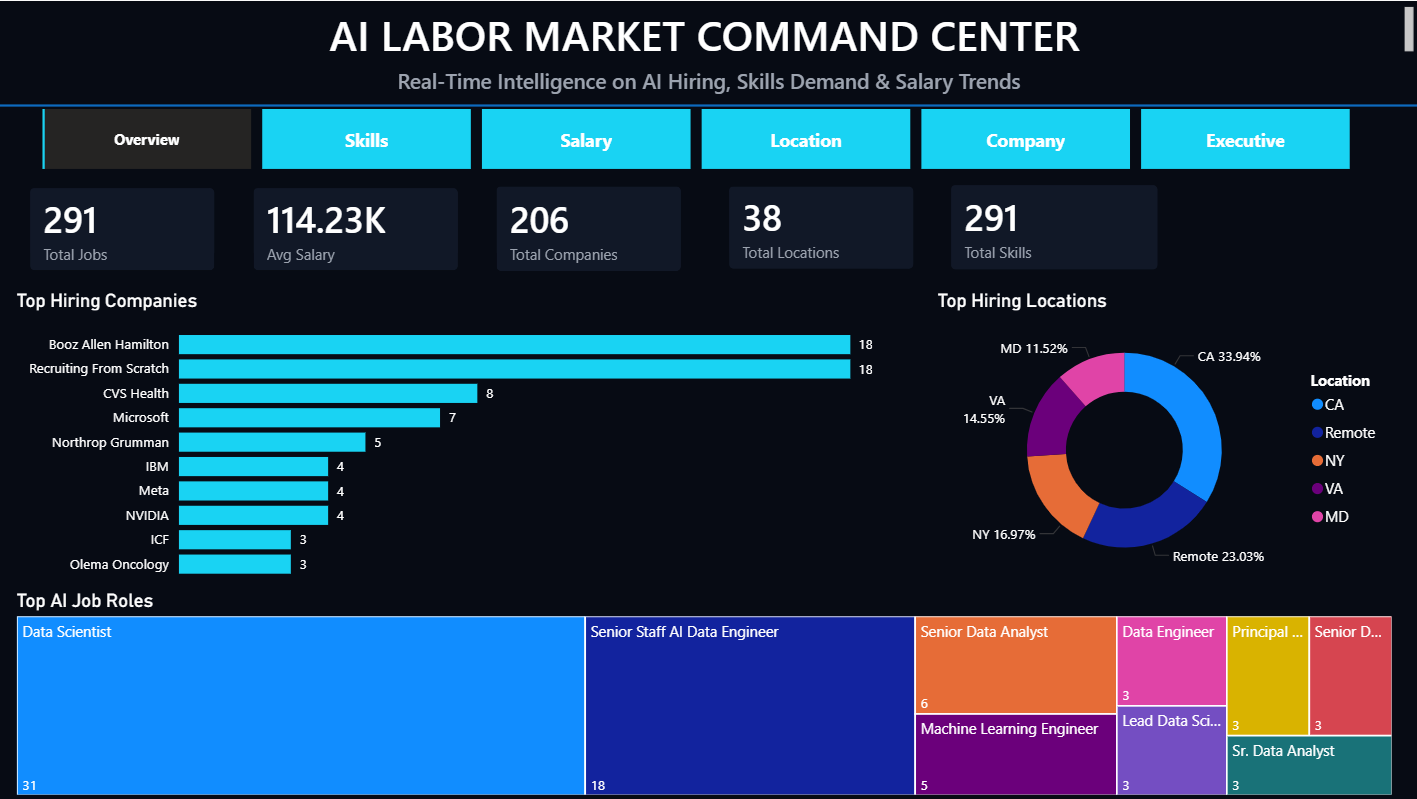

The dashboard page shown, as its layout file describes it:
{"tool":"powerbi","page":{"name":"Overview","canvas":[1280,720],"ordinal":0},"visuals":[{"type":"textbox","box":[0,0,1279.5,54.5],"z":0},{"type":"textbox","box":[0,54.5,1279.5,42.4],"z":1000},{"type":"shape","box":[0,92.4,1279.5,4.5],"z":2000},{"type":"cardVisual","fields":{"Data":["final_job_list.Total Jobs"]},"box":[10.7,151.3,200.2,108.5],"z":3000},{"type":"cardVisual","fields":{"Data":["final_job_list.Avg Salary"]},"box":[212.5,151.3,218.6,108.5],"z":4000},{"type":"cardVisual","fields":{"Data":["final_job_list.Total Companies"]},"box":[431.1,149.8,200.2,110.1],"z":5000},{"type":"cardVisual","fields":{"Data":["final_job_list.Total Locations"]},"box":[640.5,149.8,200.2,108.5],"z":6000},{"type":"cardVisual","fields":{"Data":["final_job_list.Total Skills"]},"box":[840.7,148.3,220.1,110.1],"z":7000},{"type":"clusteredBarChart","title":"Top Hiring Companies","fields":{"Category":["final_job_list.Company"],"Y":["CountNonNull(final_job_list.Company)"]},"box":[10.8,259.5,781.3,270.3],"z":8000},{"type":"donutChart","title":"Top Hiring Locations","fields":{"Category":["final_job_list.Location"],"Y":["CountNonNull(final_job_list.Location)"]},"box":[840.8,259.5,419,270.3],"z":9000},{"type":"treemap","title":"Top AI Job Roles","fields":{"Group":["final_job_list.Job Title"],"Values":["CountNonNull(final_job_list.Job Title)"]},"box":[10.8,529.9,1249,190.6],"z":10000},{"type":"pageNavigator","box":[39.2,97.3,1182.8,54.1],"z":11000}]}

Visuals, with their boxes in screenshot pixels (x1, y1, x2, y2), scaled from the page's 1280x720 canvas onto the 1417x799 screenshot:
textbox: detection(0, 0, 1416, 60)
textbox: detection(0, 60, 1416, 108)
shape: detection(0, 103, 1416, 108)
cardVisual - final_job_list.Total Jobs: detection(12, 168, 233, 288)
cardVisual - final_job_list.Avg Salary: detection(235, 168, 477, 288)
cardVisual - final_job_list.Total Companies: detection(477, 166, 699, 288)
cardVisual - final_job_list.Total Locations: detection(709, 166, 931, 287)
cardVisual - final_job_list.Total Skills: detection(931, 165, 1174, 287)
"Top Hiring Companies" clusteredBarChart: detection(12, 288, 877, 588)
"Top Hiring Locations" donutChart: detection(931, 288, 1395, 588)
"Top AI Job Roles" treemap: detection(12, 588, 1395, 798)
pageNavigator: detection(43, 108, 1353, 168)
